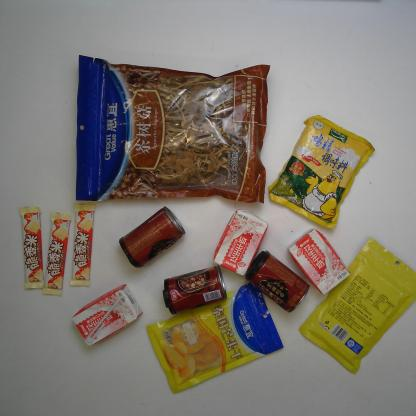Canned Food: (243, 248, 312, 314), (118, 205, 187, 269), (162, 264, 227, 315)
Chocolate: (42, 212, 72, 296), (69, 203, 96, 287), (18, 206, 45, 289)
Dried Food: (75, 54, 271, 204)
Dried Fruit: (298, 236, 416, 376), (145, 281, 284, 394)
Milk: (70, 284, 145, 348), (287, 228, 351, 296), (213, 208, 270, 278)
Seasoner: (267, 114, 375, 232)
